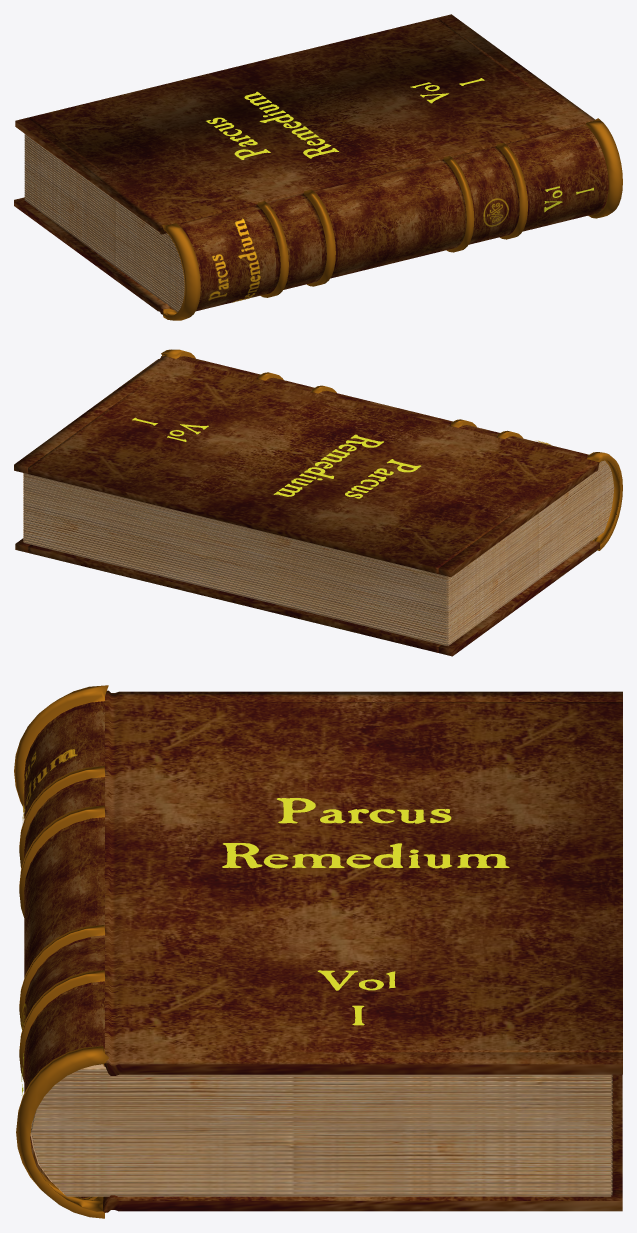
File: old_book (1).glb
The picture shows the model from 3 angles, top to bottom: view 1: azimuth 30°, elevation 25°; view 2: azimuth 150°, elevation 25°; view 3: azimuth 270°, elevation 25°; orthographic projection. The views are drawn at different scales.
Parts seen in each view (by area): view 1: cover (×2), pages, Text, PM; view 2: cover (×2), pages, Text; view 3: cover (×2), pages, Text, Text.001.
Boxes of the visible parts, <box> form: cover (×2): <box>14,14,622,320</box>; pages: <box>24,134,184,312</box>; Text: <box>206,91,338,159</box>; PM: <box>208,218,260,302</box>; cover (×2): <box>14,349,622,656</box>; pages: <box>23,460,614,645</box>; Text: <box>273,434,420,498</box>; cover (×2): <box>14,685,622,1218</box>; pages: <box>30,1064,612,1196</box>; Text: <box>222,798,509,868</box>; Text.001: <box>317,970,395,1025</box>.
Size of what is drawn, in the model's own units: 10.67 by 2.19 by 7.35.
Materials: 6 (4 with a texture image).
